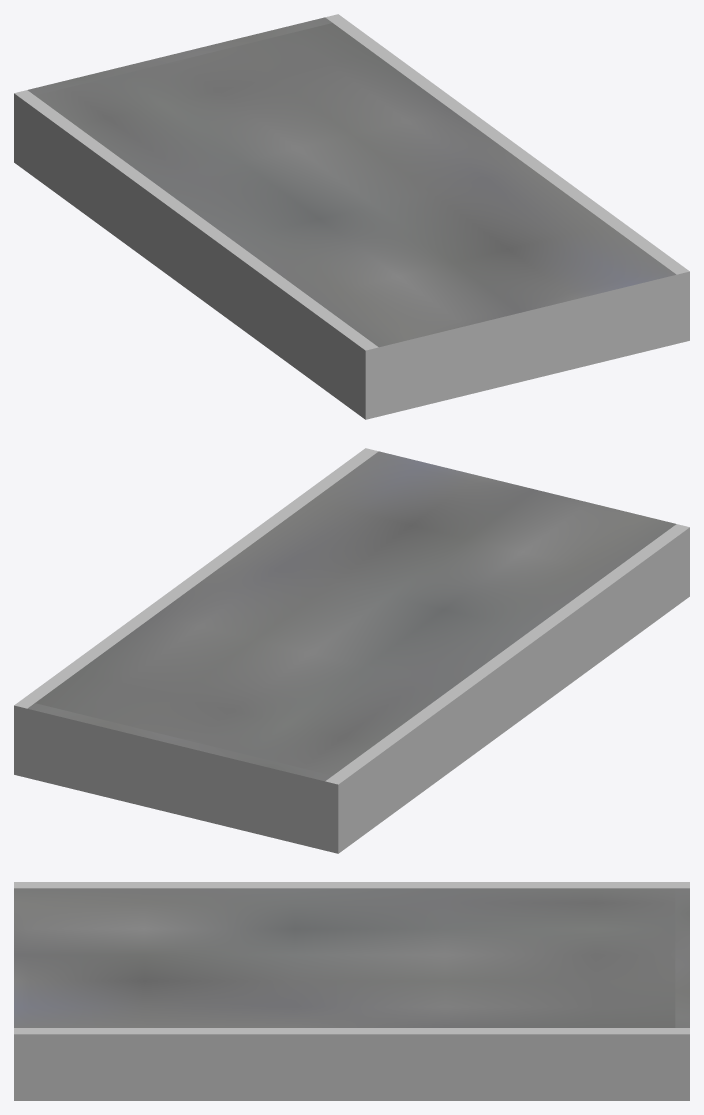
File: JpHouse_Msite01a.fbx
The picture shows the model from 3 angles, top to bottom: view 1: azimuth 30°, elevation 25°; view 2: azimuth 150°, elevation 25°; view 3: azimuth 270°, elevation 25°; orthographic projection. The views are drawn at different scales.
Parts seen in each view (by area): view 1: JpHouse_Msite01a; view 2: JpHouse_Msite01a; view 3: JpHouse_Msite01a.
Boxes of the visible parts, <box> form: JpHouse_Msite01a: <box>14,14,689,419</box>; JpHouse_Msite01a: <box>14,448,689,853</box>; JpHouse_Msite01a: <box>14,882,689,1100</box>.
Size of the model in its own units: 2.45 by 0.5 by 4.6.
